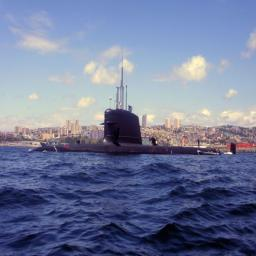submarine: (31, 45, 231, 153)
